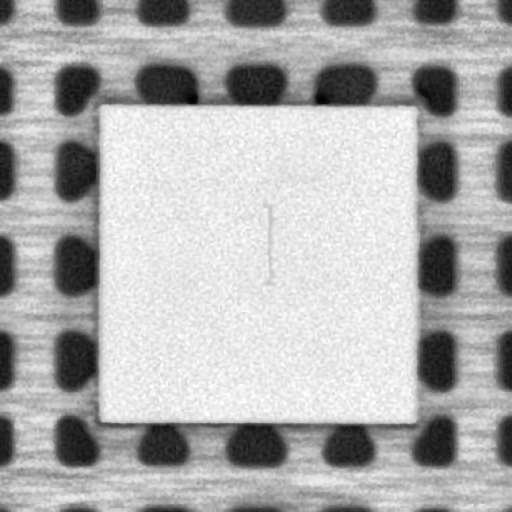DIE_CRACK: (260, 202, 276, 286)
